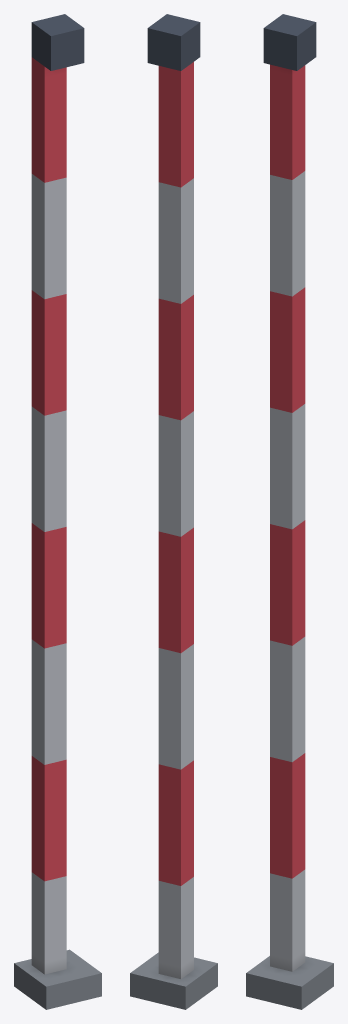
File: beacon_mast.glb
3 renders of one model, left to right at view 1: azimuth 30°, elevation 25°; view 2: azimuth 150°, elevation 25°; view 3: azimuth 330°, elevation 25°, orthographic.
Parts seen in each view (by area): view 1: Model; view 2: Model; view 3: Model.
Part boxes in pixels (x1,y1,x2,y2): Model: (14, 14, 101, 1009); Model: (130, 14, 217, 1009); Model: (246, 14, 333, 1009).
Bounding box in the file's own units: 0.5 × 8.3 × 0.5.
